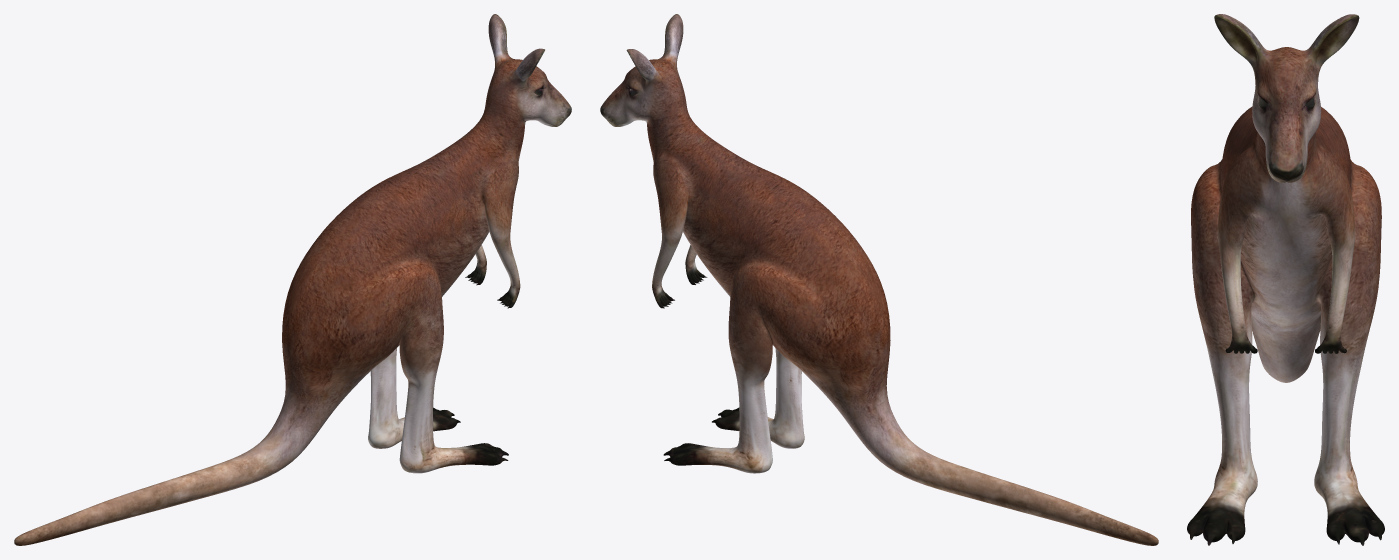
Rendered from kangaroo.gltf.
The picture shows the model from 3 angles, left to right: view 1: azimuth 30°, elevation 25°; view 2: azimuth 150°, elevation 25°; view 3: azimuth 270°, elevation 25°; orthographic projection. The views are drawn at different scales.
Visible parts, largest first — view 1: 12271_Kangaroo_v1_L3; view 2: 12271_Kangaroo_v1_L3; view 3: 12271_Kangaroo_v1_L3.
Boxes of the visible parts, x1=… form: 12271_Kangaroo_v1_L3: x1=14, y1=14, x2=571, y2=545; 12271_Kangaroo_v1_L3: x1=600, y1=14, x2=1158, y2=545; 12271_Kangaroo_v1_L3: x1=1187, y1=14, x2=1384, y2=545.
Bounding box in the file's own units: 311 × 212 × 67.72.
Materials: 2 (2 with a texture image).
